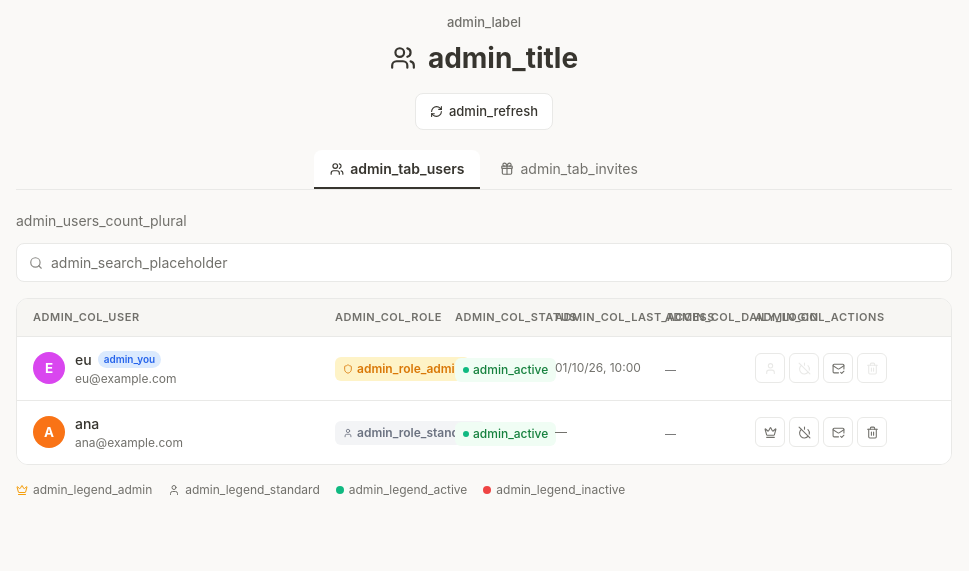
UserManagementPanel (montagem completa) › a troca de role passa pela edge e o erro conhecido sai traduzido
The image size is (969, 571).
Expected: the text "ana@example.com" is shown, [75, 434, 183, 450]
What coordinates should you click on to do the following:
click the button named "admin_promote"
I would click on:
 (770, 432)
Its box is [755, 417, 785, 447].
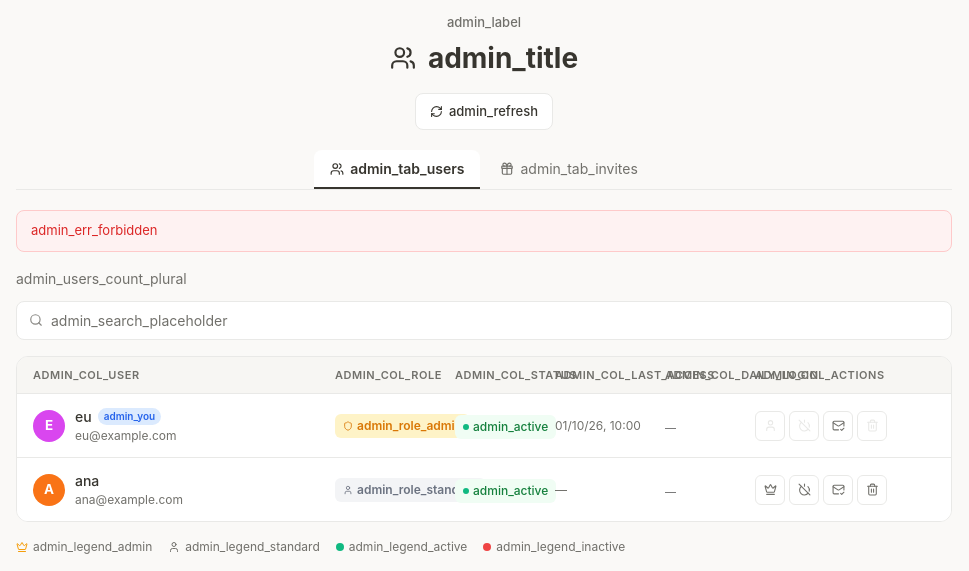
Expected: the text "admin_err_forbidden" is shown, [16, 210, 952, 252]
